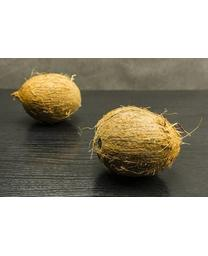coconut: (93, 104, 184, 181), (10, 66, 83, 123)
